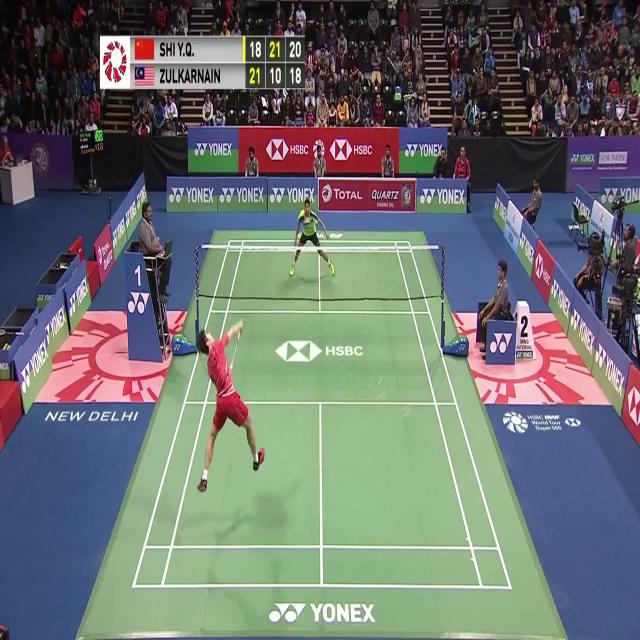Shuttlecock: (305, 214, 311, 225)
